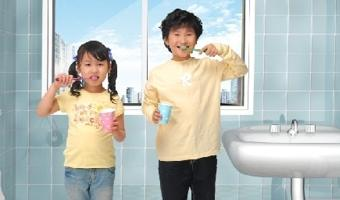person: (141, 9, 249, 200)
